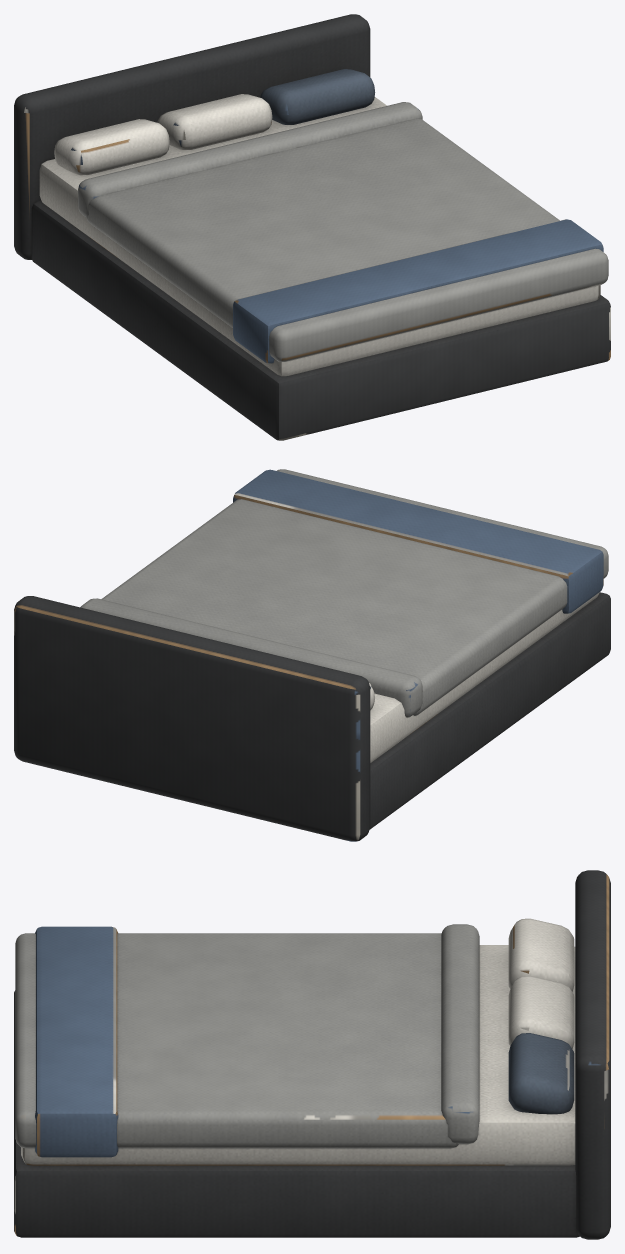
Rendered from H_Bed_Double.fbx.
3 renders of one model, top to bottom at view 1: azimuth 30°, elevation 25°; view 2: azimuth 150°, elevation 25°; view 3: azimuth 270°, elevation 25°, orthographic. The views are drawn at different scales.
Parts seen in each view (by area): view 1: H_Bed_Double; view 2: H_Bed_Double; view 3: H_Bed_Double.
Part boxes in pixels (<box>): H_Bed_Double: <box>14,14,610,440</box>; H_Bed_Double: <box>14,469,610,841</box>; H_Bed_Double: <box>14,870,610,1239</box>.
Size of the model in its own units: 770 by 340 by 1000.
1 material, 1 textured.
